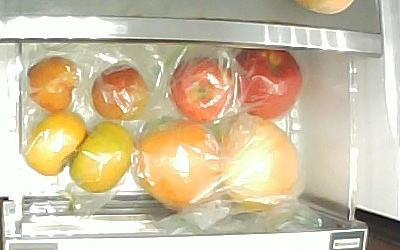apple_vinyl: (234, 49, 302, 120), (169, 55, 235, 124)
grapefruit_vinyl: (136, 119, 221, 211), (219, 112, 299, 209)
persimmon_vinyl: (69, 121, 133, 193), (24, 110, 87, 176)
prune_vinyl: (91, 62, 148, 120), (27, 56, 79, 112)
